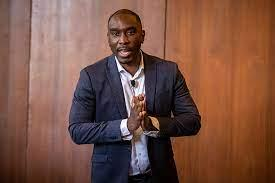Persons: (105, 9, 147, 66)
